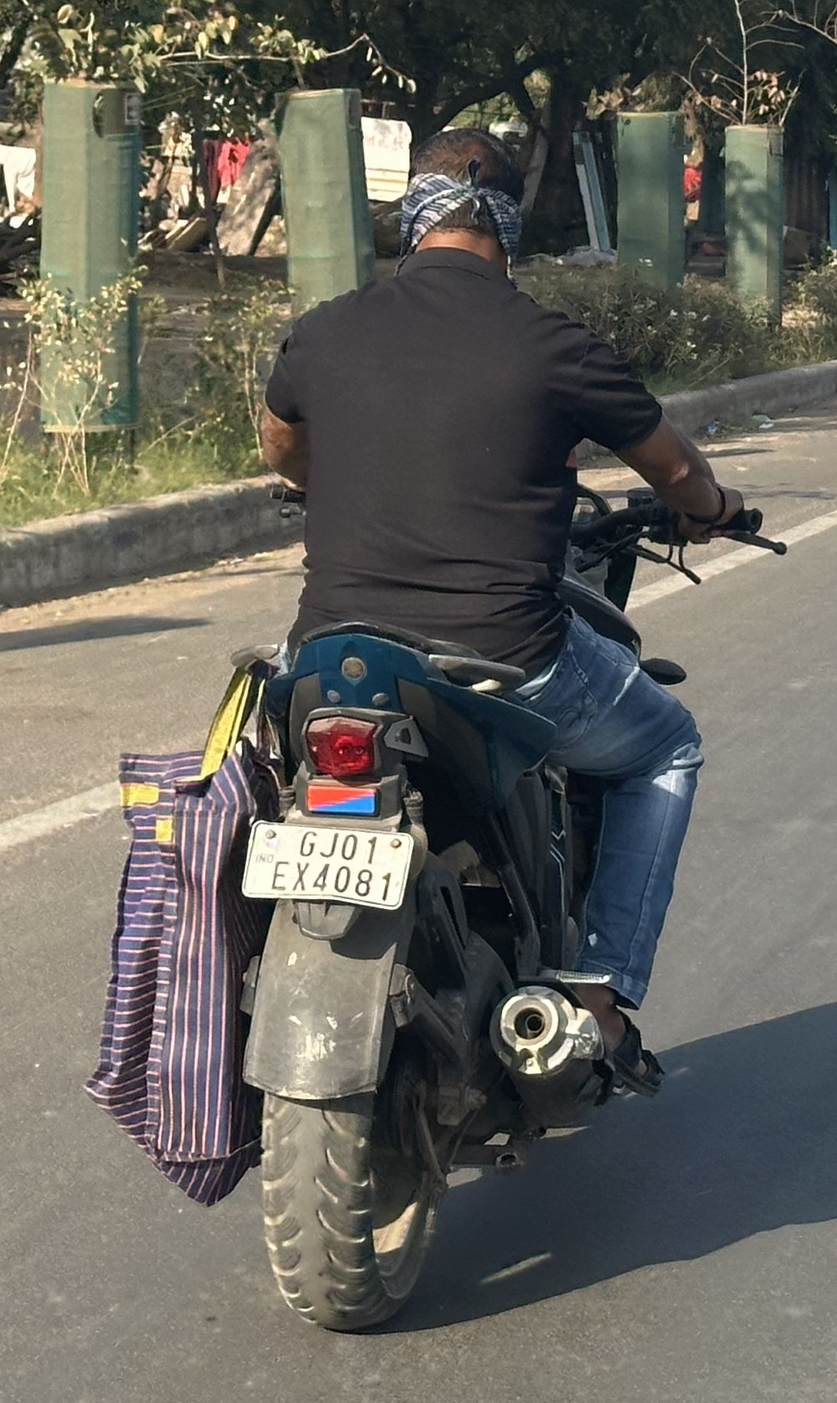BikeWithRider: (146, 110, 799, 1349)
NoHelmet: (375, 111, 545, 289)
